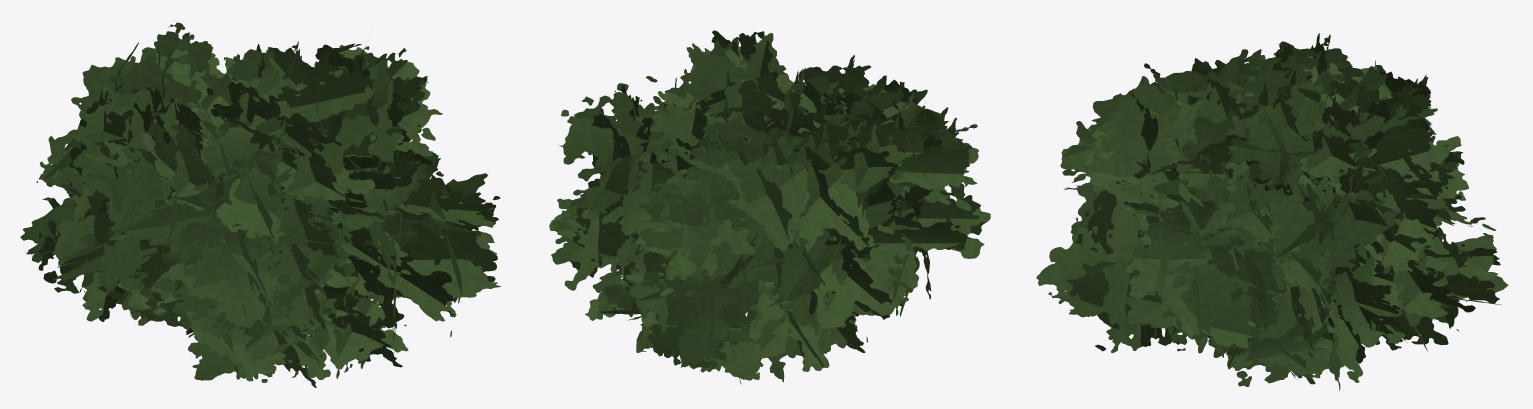
The model's file is HazelThicketLOD0.fbx.
3 views of the same model, side by side, from view 1: azimuth 30°, elevation 25°; view 2: azimuth 150°, elevation 25°; view 3: azimuth 270°, elevation 25° (orthographic). The views are drawn at different scales.
Visible parts, largest first — view 1: Foliage; view 2: Foliage; view 3: Foliage.
Part boxes in pixels (x1,y1,x2,y2): Foliage: (20,20,500,387); Foliage: (549,30,990,384); Foliage: (1036,33,1508,390).
Size of the model in its own units: 4.28 by 2.89 by 4.54.
Materials: 2 (2 with a texture image).
